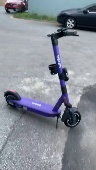beam: (2, 26, 82, 129)
